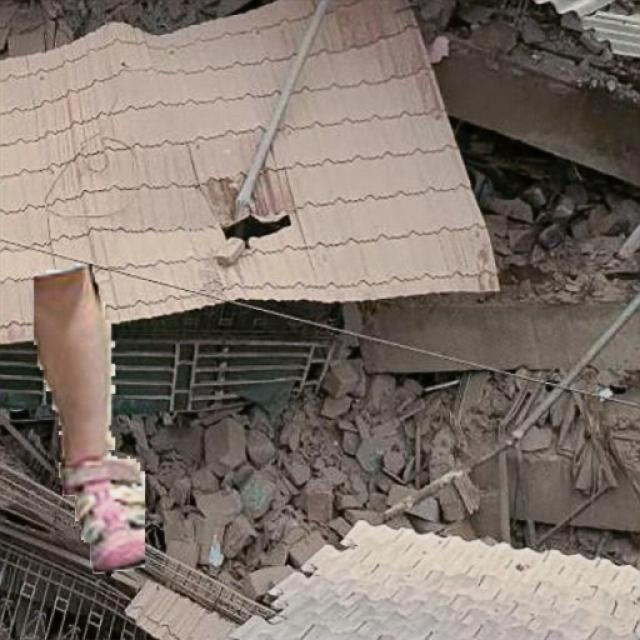Person in Rubble: (34, 264, 144, 575)
